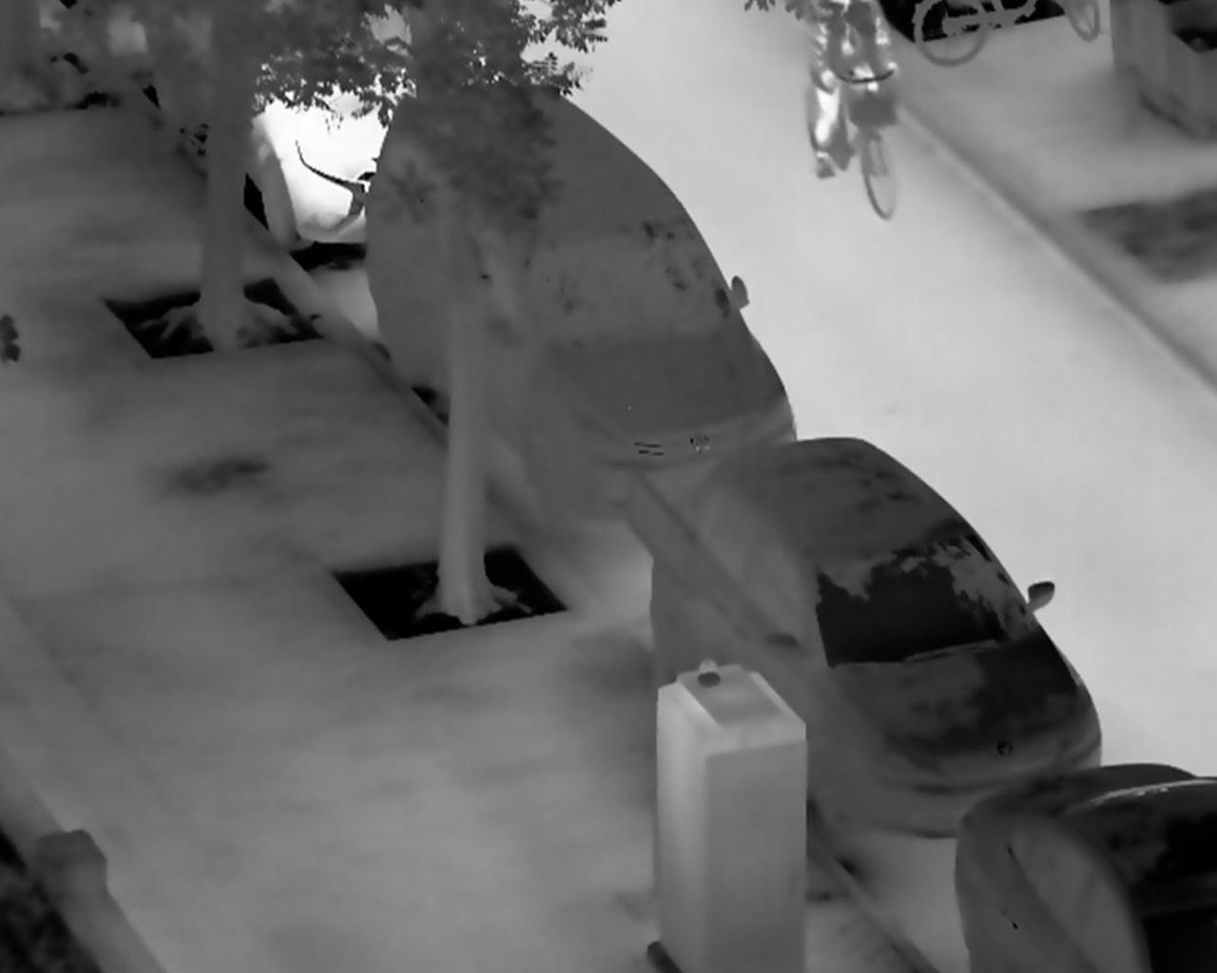person: (805, 4, 901, 179)
